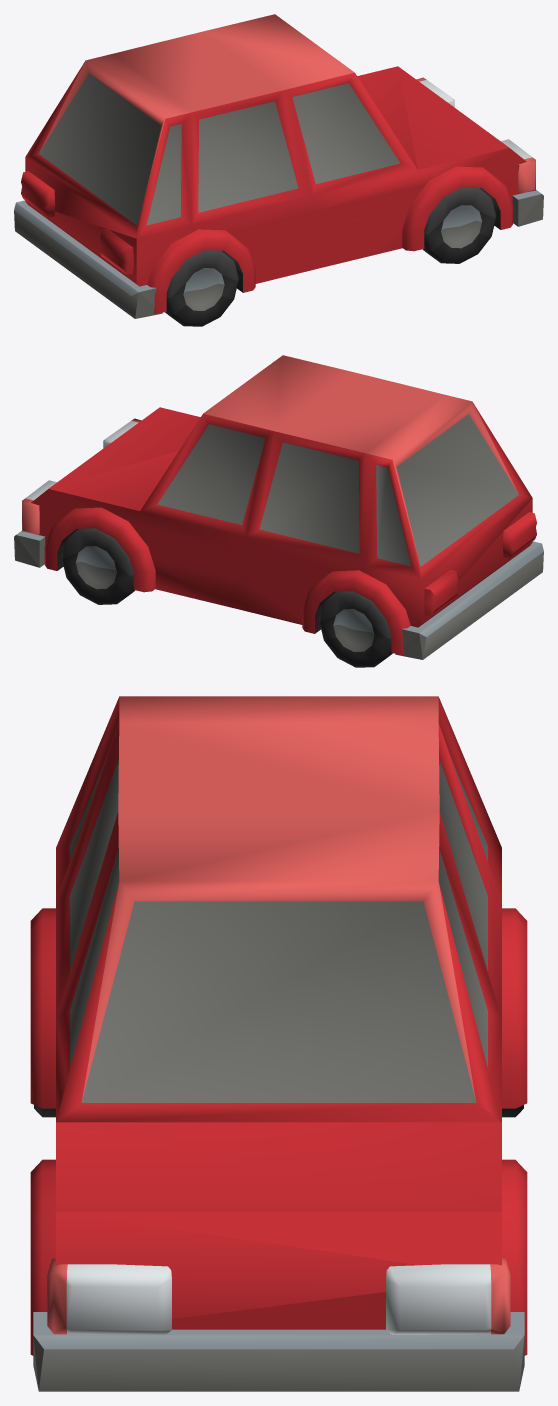
File: car-hatchback.glb
3 views of the same model, one above another, from view 1: azimuth 30°, elevation 25°; view 2: azimuth 150°, elevation 25°; view 3: azimuth 270°, elevation 25° (orthographic). The views are drawn at different scales.
Visible parts, largest first — view 1: car-hatchback; view 2: car-hatchback; view 3: car-hatchback.
Boxes of the visible parts, x1,y1,x2,y2 form: car-hatchback: (14, 14, 543, 326); car-hatchback: (14, 355, 543, 667); car-hatchback: (30, 696, 527, 1391).
Size of the model in its own units: 3.39 by 1.55 by 1.76.
